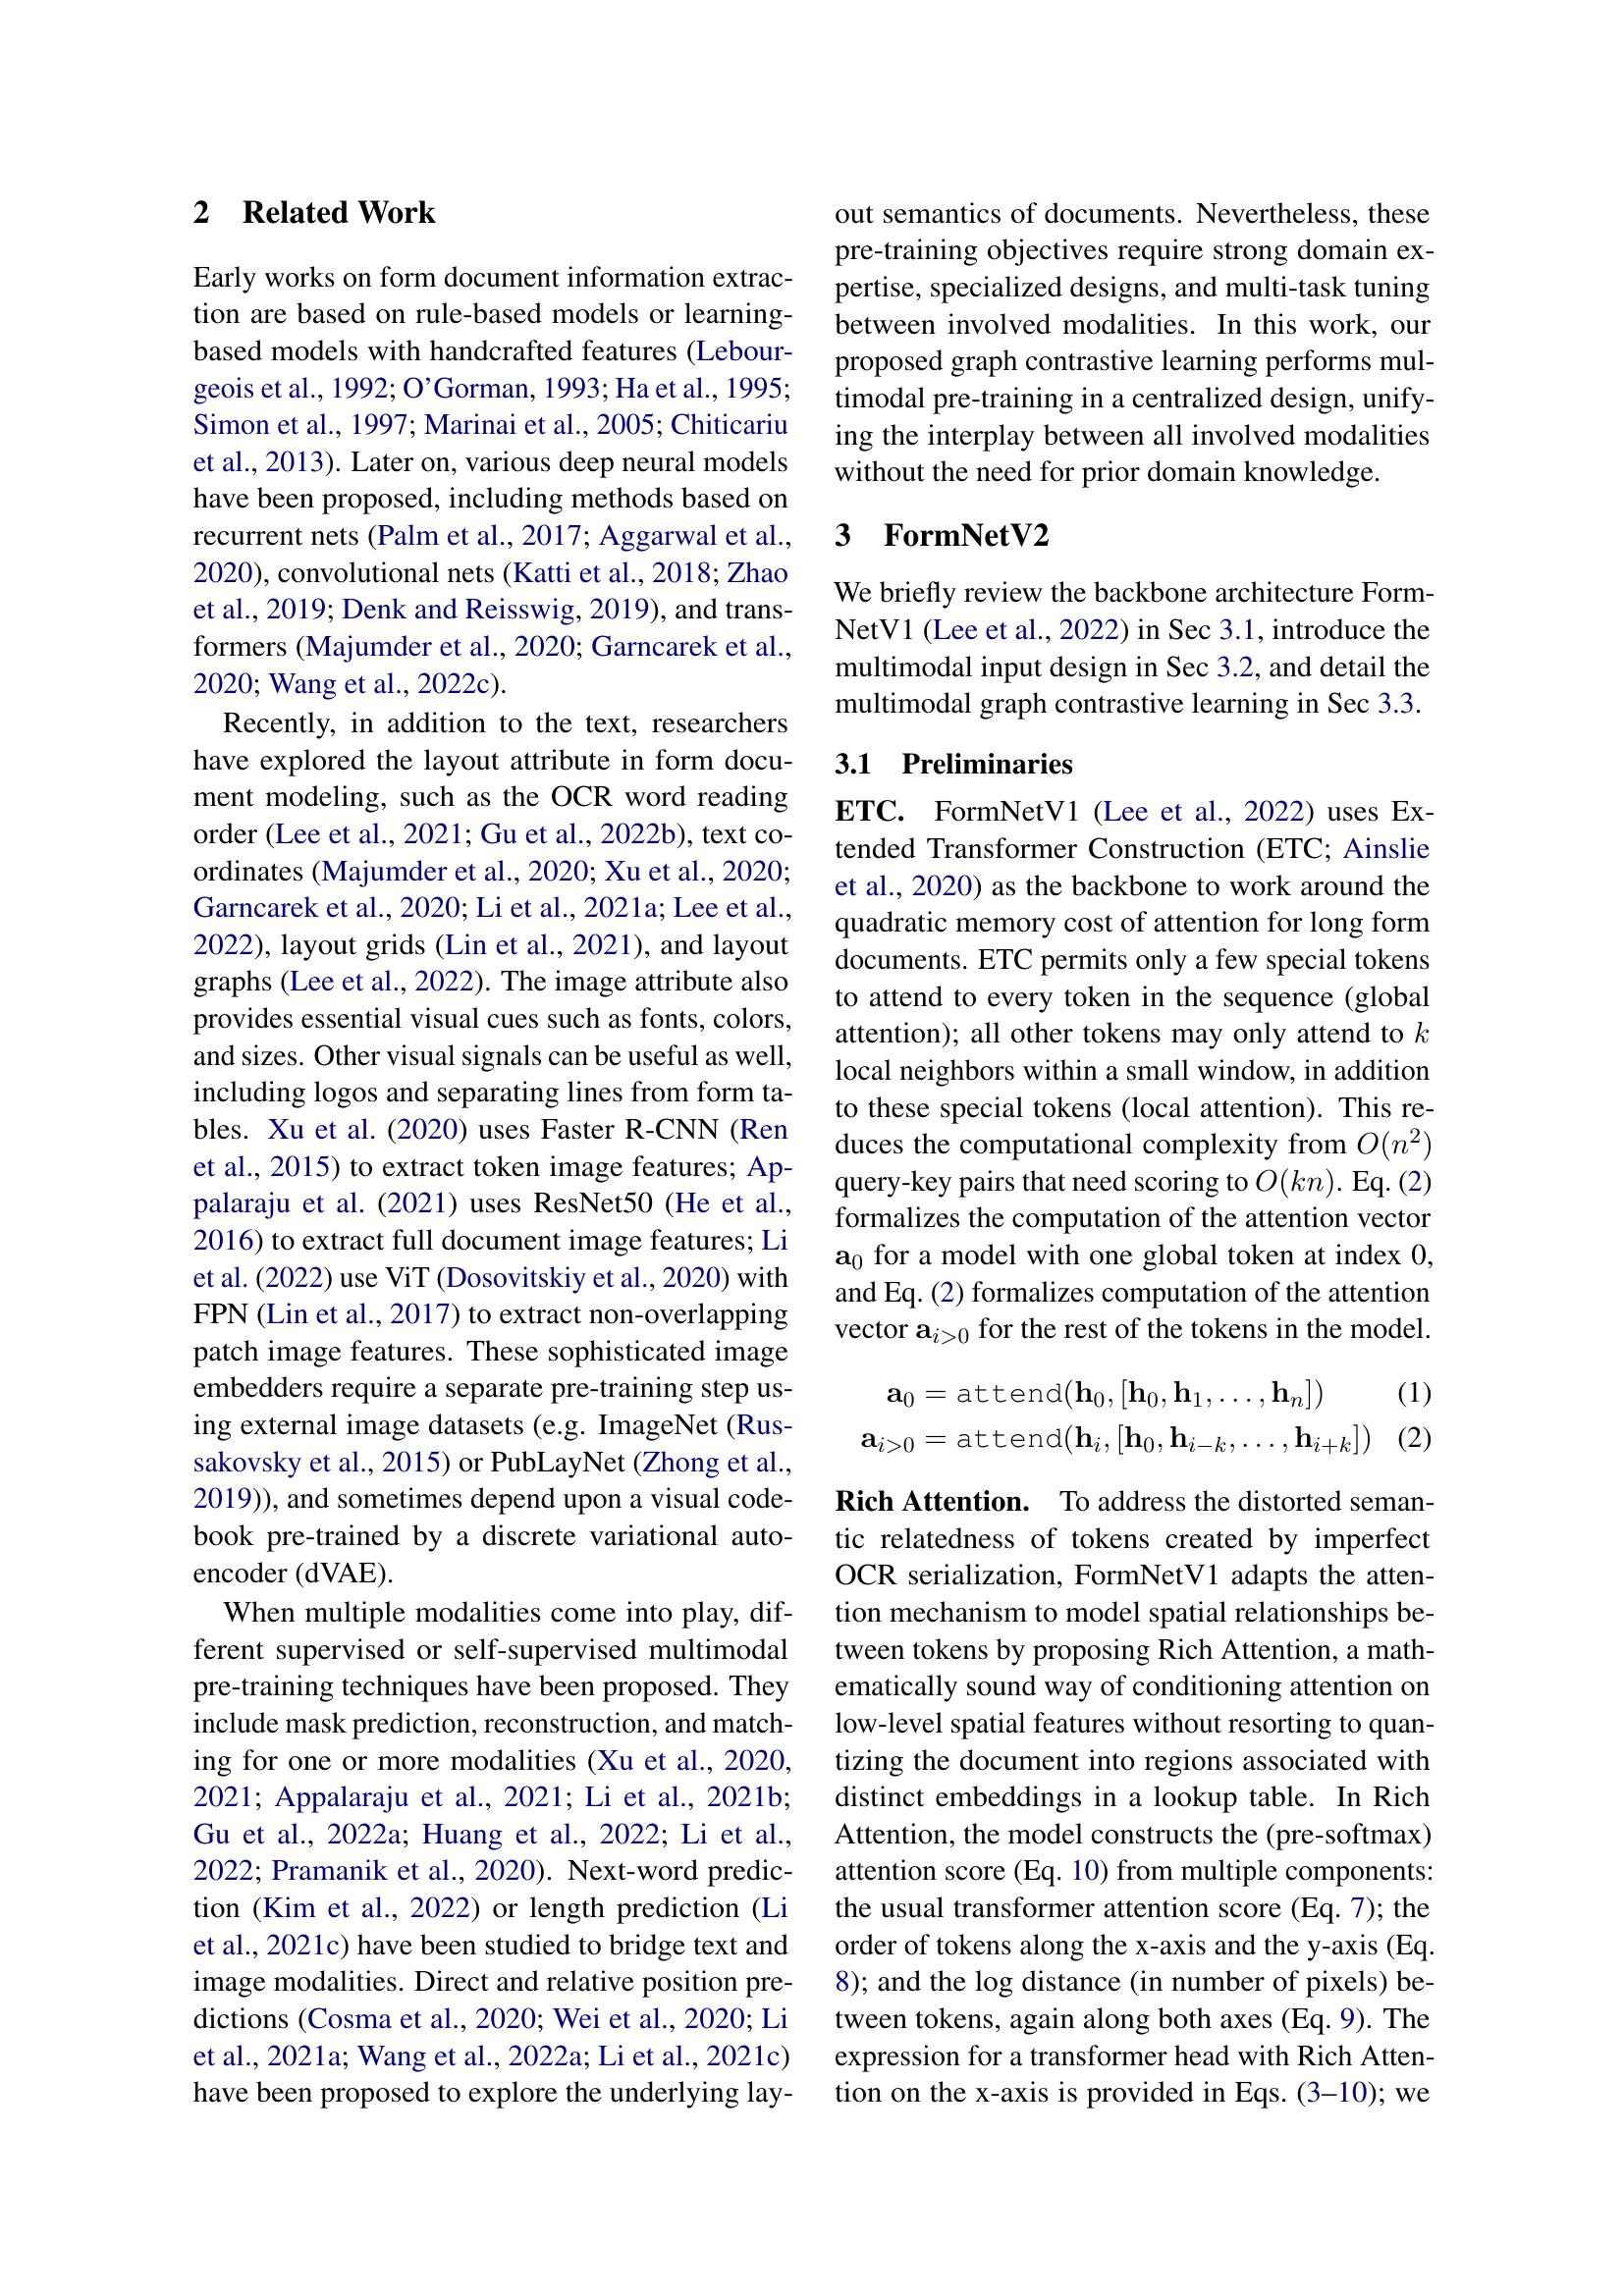text: (179, 706, 801, 1595), (819, 736, 1443, 1469), (824, 1477, 1446, 2129), (821, 179, 1441, 731), (178, 181, 801, 708), (179, 1595, 801, 2120)
